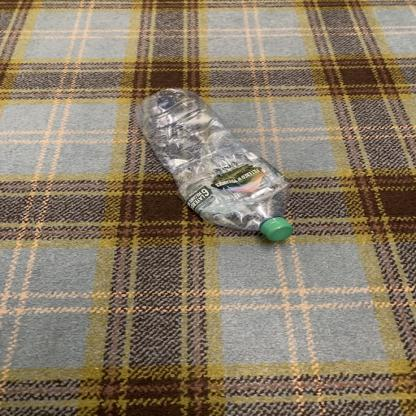trash: (136, 88, 303, 254)
